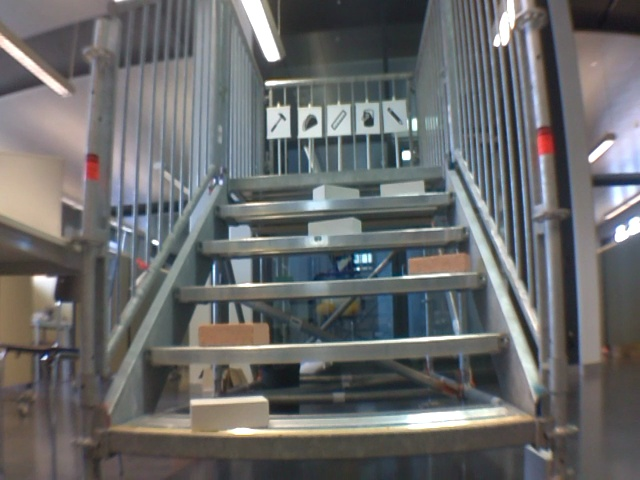brick: (190, 397, 269, 433), (199, 324, 269, 346), (408, 254, 469, 275), (307, 218, 360, 234), (312, 185, 359, 199), (381, 180, 423, 195)
bucket: (358, 107, 375, 128)
edge: (110, 421, 528, 460), (145, 334, 508, 364), (174, 273, 489, 299), (197, 228, 473, 251), (215, 192, 454, 213), (227, 167, 438, 188)
hammer: (268, 110, 289, 136)
pencil: (383, 105, 405, 127)
ruler: (330, 106, 348, 131)
stairs: (73, 4, 572, 478)
steps: (102, 164, 538, 467)
taco: (298, 111, 319, 133)
